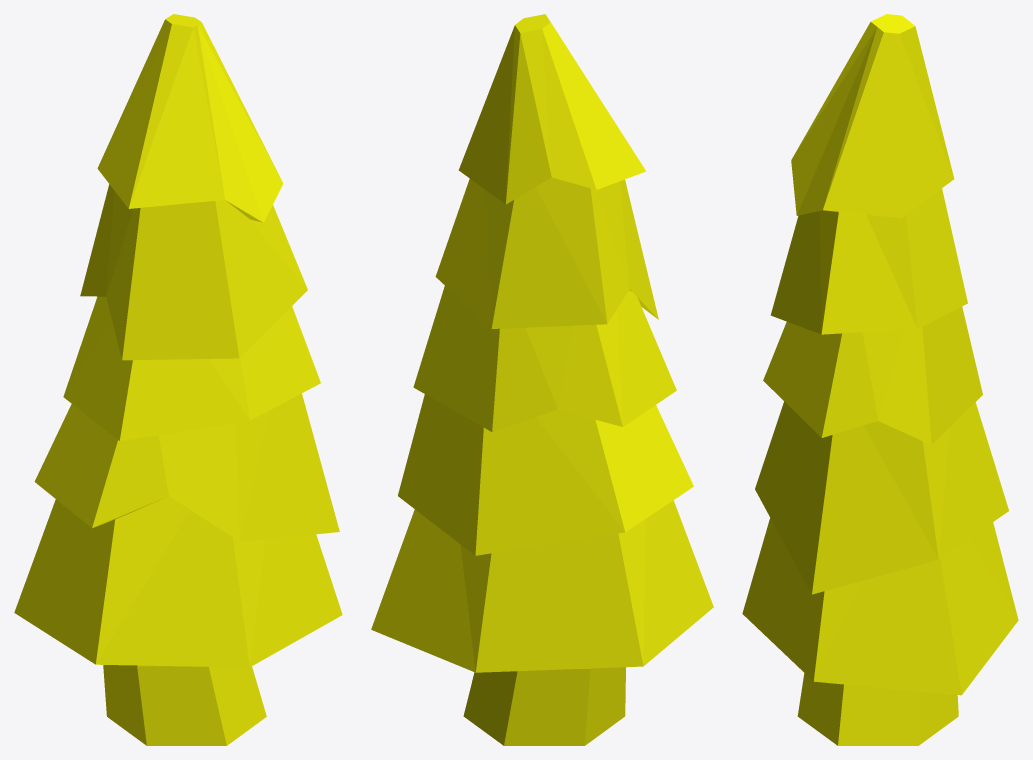
File: pine01.glb
3 views of the same model, side by side, from view 1: azimuth 30°, elevation 25°; view 2: azimuth 150°, elevation 25°; view 3: azimuth 270°, elevation 25° (orthographic).
Parts seen in each view (by area): view 1: pine01_leaves, pine01; view 2: pine01_leaves, pine01; view 3: pine01_leaves, pine01.
Part boxes in pixels (bbox=[...]): pine01_leaves: bbox=[14, 14, 342, 667]; pine01: bbox=[103, 665, 266, 745]; pine01_leaves: bbox=[371, 14, 713, 672]; pine01: bbox=[463, 667, 625, 745]; pine01_leaves: bbox=[742, 14, 1018, 695]; pine01: bbox=[797, 673, 958, 745].
Bounding box in the file's own units: 4.18 × 10.41 × 3.74.
1 material, 1 textured.
